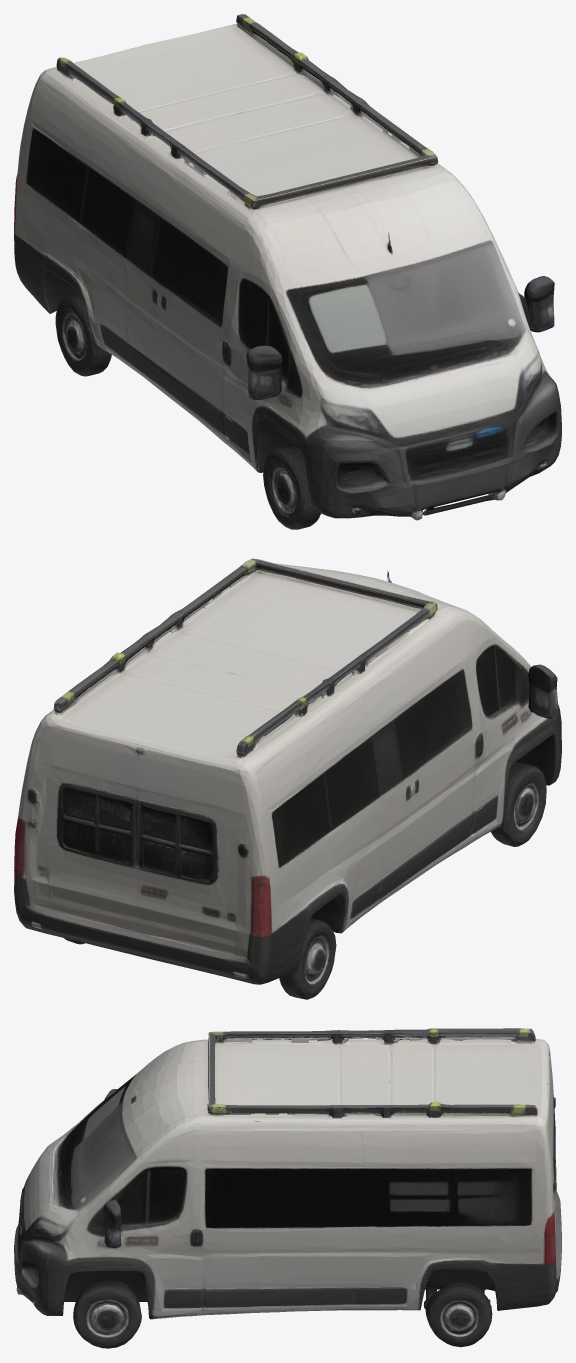
Rendered from camionnette.glb.
The picture shows the model from 3 angles, top to bottom: view 1: azimuth 30°, elevation 25°; view 2: azimuth 150°, elevation 25°; view 3: azimuth 270°, elevation 25°; orthographic projection. The views are drawn at different scales.
Parts seen in each view (by area): view 1: geometry_0; view 2: geometry_0; view 3: geometry_0.
Part boxes in pixels (box(x1,y1,x2,y2)): geometry_0: box(14, 14, 561, 529); geometry_0: box(14, 558, 561, 999); geometry_0: box(14, 1028, 561, 1348).
Size of the model in its own units: 0.539 by 0.472 by 0.9974.
1 material, 1 textured.
